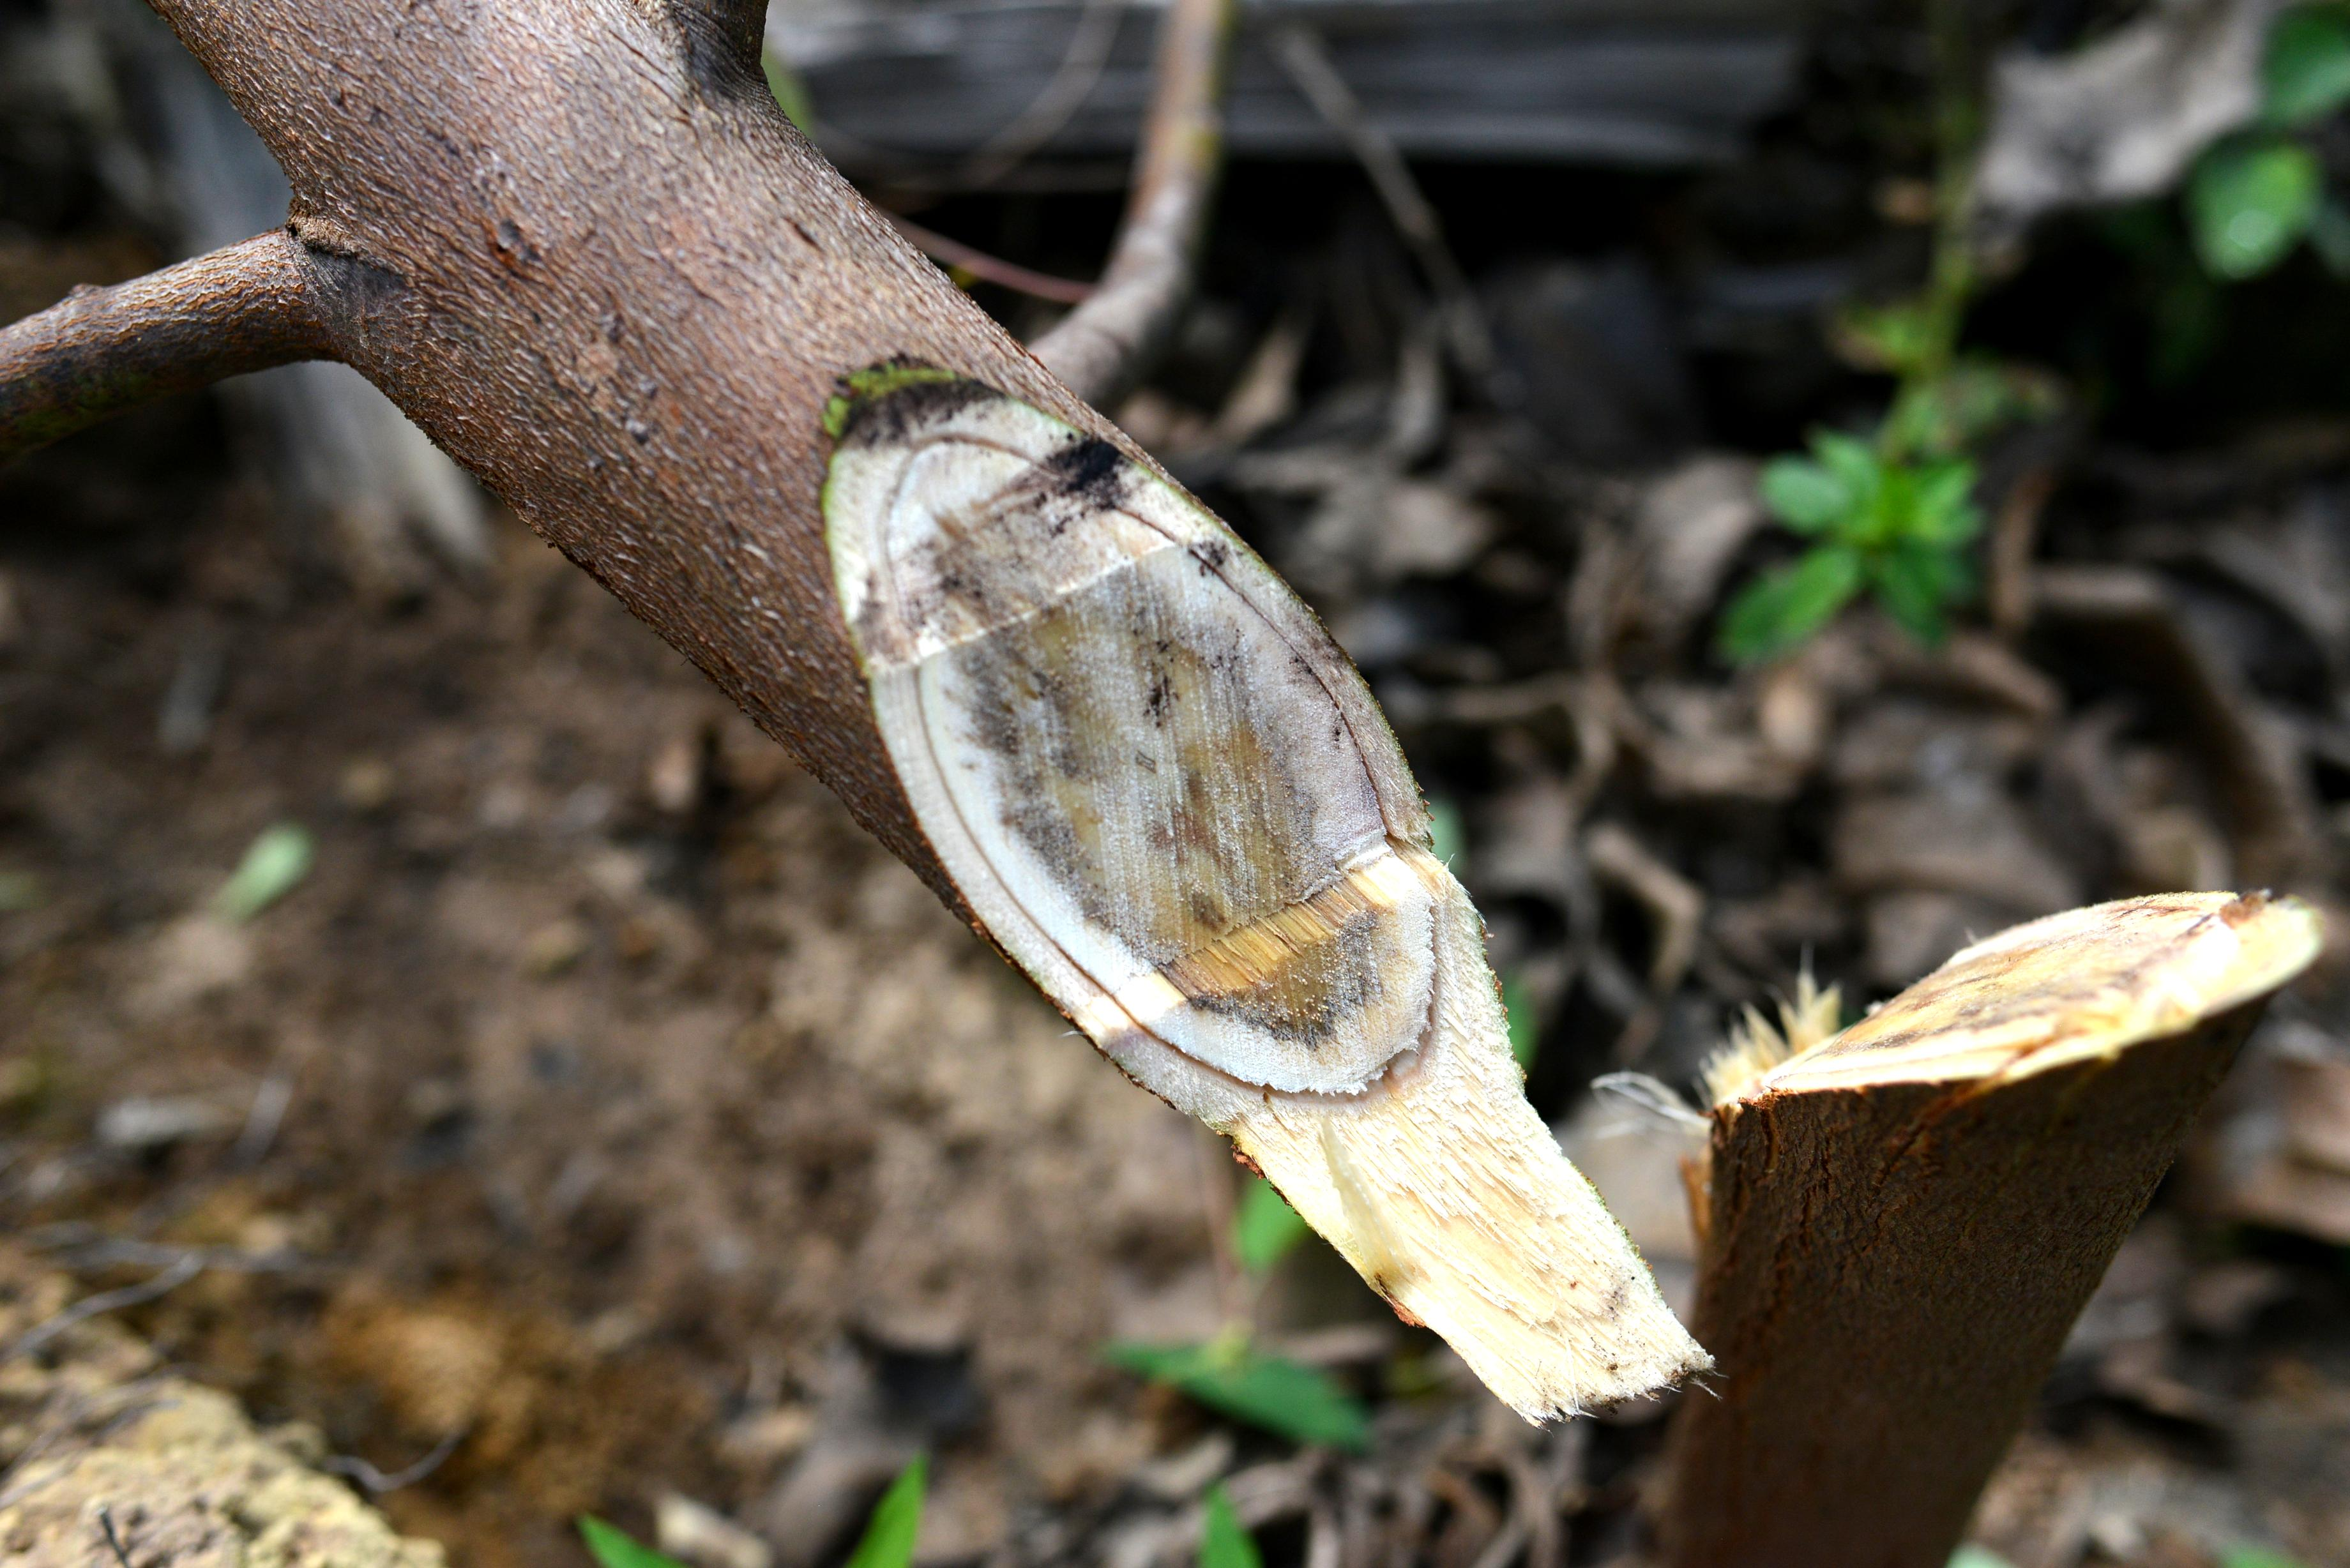Ralstonia: (1137, 604, 1379, 1048), (913, 502, 1102, 896), (1839, 945, 2187, 1038)
